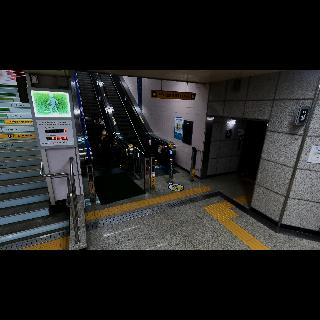normal: (98, 128, 115, 174), (80, 112, 104, 140)
